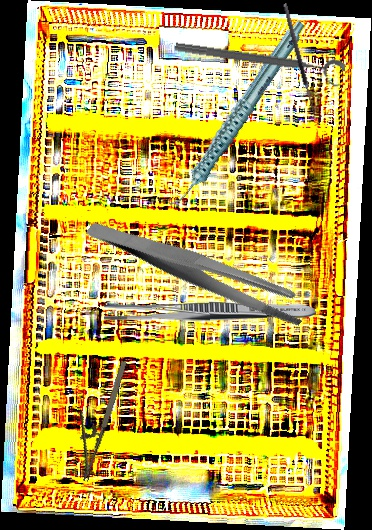Dressing Forceps: (84, 170, 314, 370), (103, 299, 316, 325)
Fixation Ring: (172, 37, 347, 89)
Handpiece: (134, 18, 339, 211)
Hook Surgical: (281, 1, 324, 120)
Needle Holder: (58, 353, 131, 483)
